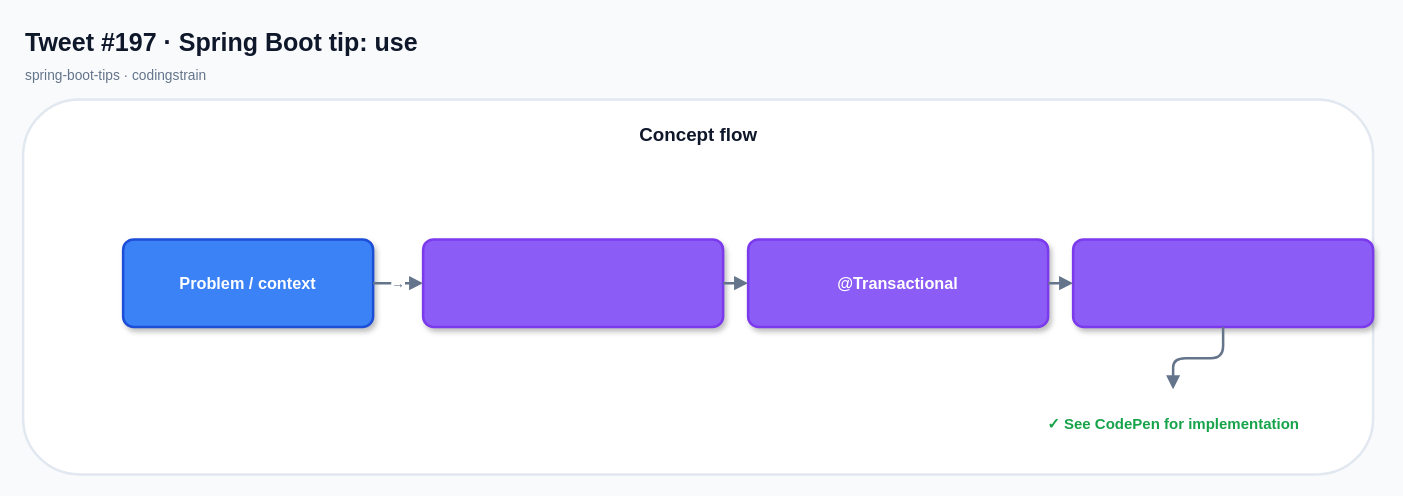
This 1403x496 diagram has some shape labels left out. The centre of each missing label's shape, as x and y in pixels:
at the service layer, not on repositories.: (x=1223, y=284)
💡 Spring Boot tip: use: (x=573, y=284)
